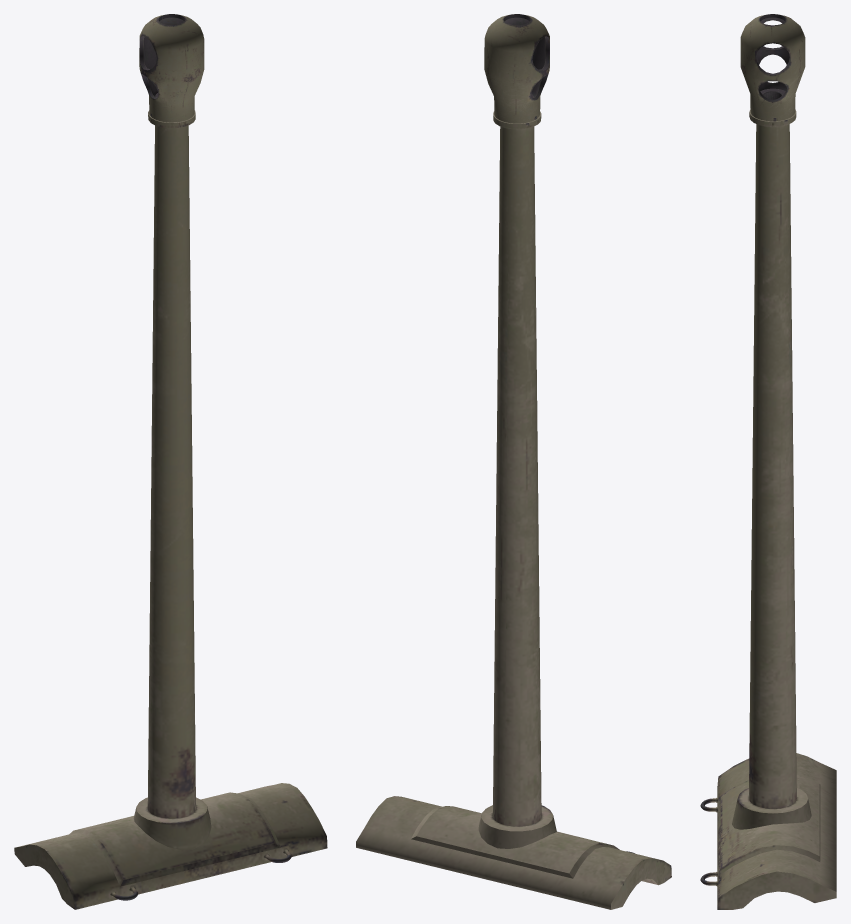
The model's file is Gun_02.glb.
3 renders of one model, left to right at view 1: azimuth 30°, elevation 25°; view 2: azimuth 150°, elevation 25°; view 3: azimuth 270°, elevation 25°, orthographic. The views are drawn at different scales.
Parts seen in each view (by area): view 1: set_0_group_0; view 2: set_0_group_0; view 3: set_0_group_0.
Boxes of the visible parts, box(x1,y1,x2,y2) form: set_0_group_0: box(14, 14, 327, 909); set_0_group_0: box(356, 14, 671, 909); set_0_group_0: box(700, 14, 836, 909).
Bounding box in the file's own units: 1.18 × 3.74 × 0.5578.
1 material, 1 textured.
